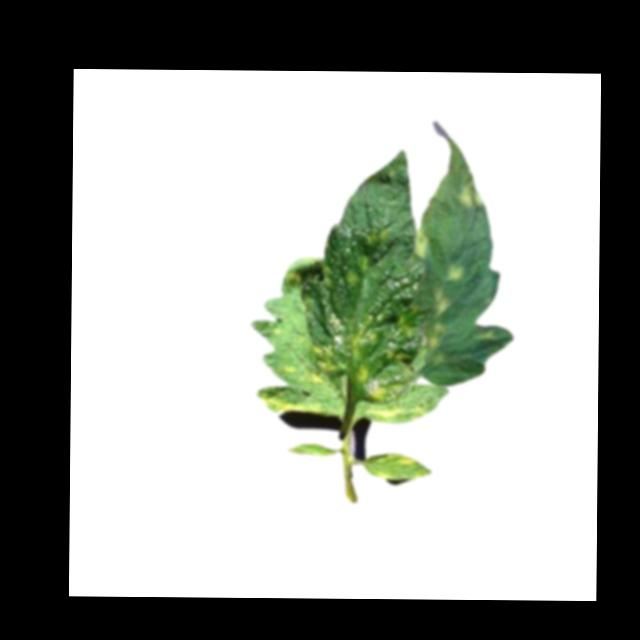Leaf_Mold: (314, 317, 378, 374), (263, 387, 320, 418), (427, 291, 454, 354), (363, 366, 397, 399), (458, 174, 488, 210), (411, 224, 436, 260), (449, 265, 467, 280)
